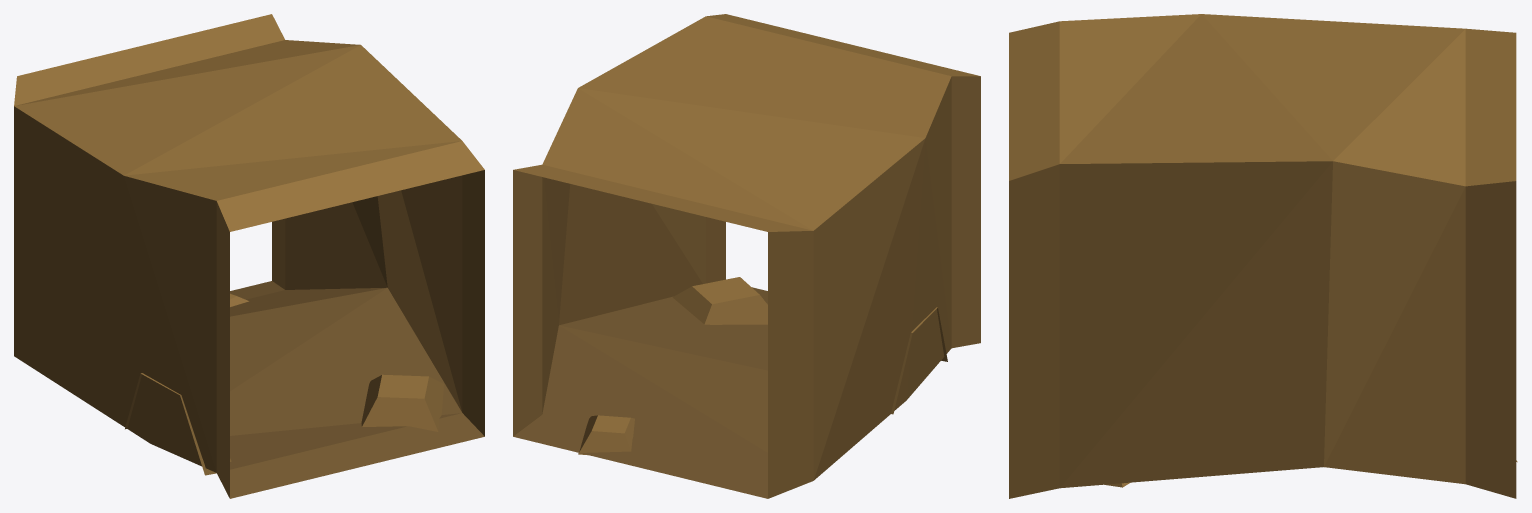
The model's file is SD_Env_Goblin_Tunnel_02.fbx.
3 views of the same model, side by side, from view 1: azimuth 30°, elevation 25°; view 2: azimuth 150°, elevation 25°; view 3: azimuth 270°, elevation 25° (orthographic). The views are drawn at different scales.
Parts seen in each view (by area): view 1: SD_Env_Goblin_Tunnel_02; view 2: SD_Env_Goblin_Tunnel_02; view 3: SD_Env_Goblin_Tunnel_02.
Boxes of the visible parts, x1,y1,x2,y2 form: SD_Env_Goblin_Tunnel_02: (14, 14, 484, 498); SD_Env_Goblin_Tunnel_02: (513, 14, 980, 498); SD_Env_Goblin_Tunnel_02: (1009, 14, 1517, 498).
Bounding box in the file's own units: 4.27 × 3.77 × 5.01.
